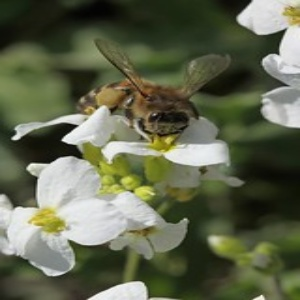bee: (62, 38, 234, 151)
